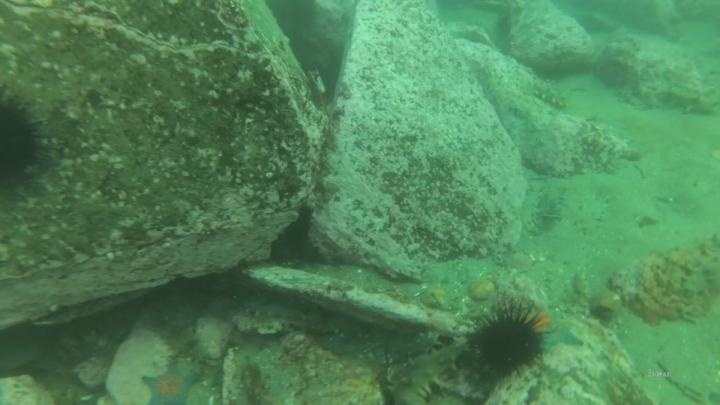echinus: (467, 304, 548, 380), (1, 92, 51, 193)
holothurian: (384, 335, 471, 405), (653, 83, 719, 119), (527, 181, 567, 238), (522, 77, 572, 113)
starfish: (521, 301, 585, 353), (139, 359, 203, 405)
